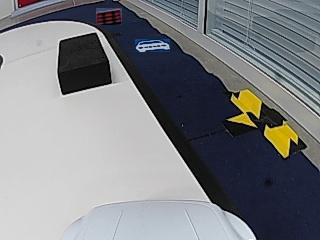block: (57, 33, 110, 94)
